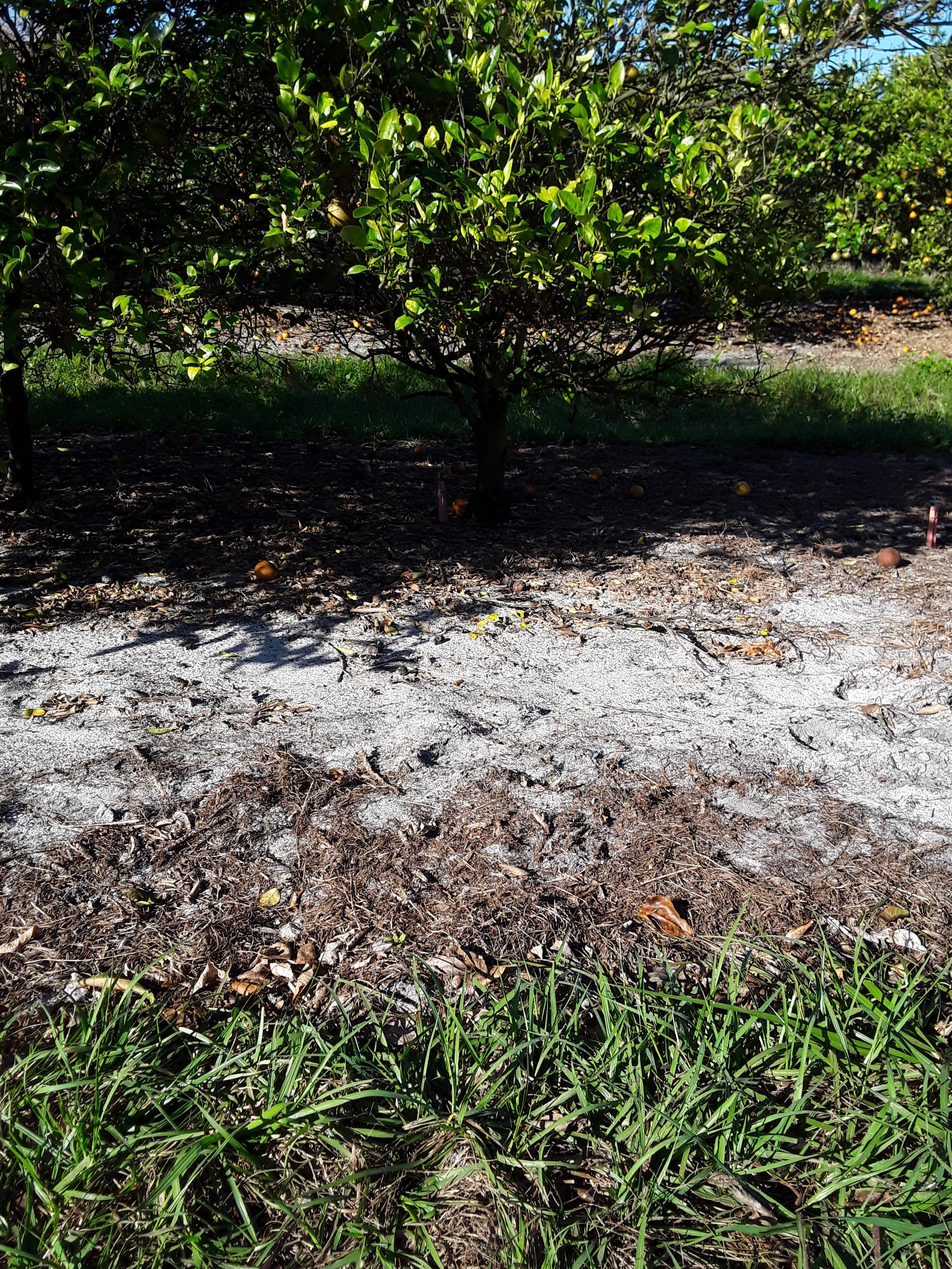fruit_on_ground: (329, 198, 354, 231), (401, 292, 425, 321), (619, 61, 642, 84), (828, 250, 842, 263), (908, 209, 919, 220), (875, 190, 885, 201), (920, 254, 931, 264), (943, 194, 952, 206)
fruit_on_tree: (875, 543, 905, 571), (182, 433, 210, 450), (254, 559, 273, 582), (734, 480, 754, 500), (522, 483, 544, 498), (451, 497, 467, 515), (449, 460, 467, 474), (110, 451, 127, 465), (512, 579, 529, 593), (633, 485, 646, 501), (413, 444, 430, 456), (841, 247, 854, 260), (589, 467, 600, 482), (161, 436, 170, 445), (282, 329, 289, 338), (333, 343, 342, 350), (902, 345, 909, 353), (314, 344, 322, 351), (277, 334, 283, 341)
